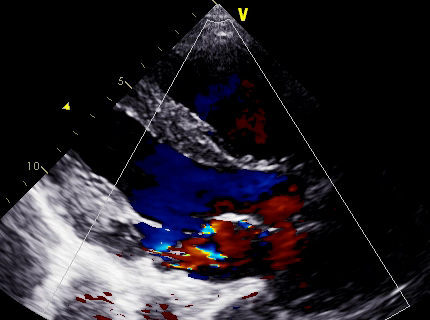MR: (177, 213, 244, 277)
